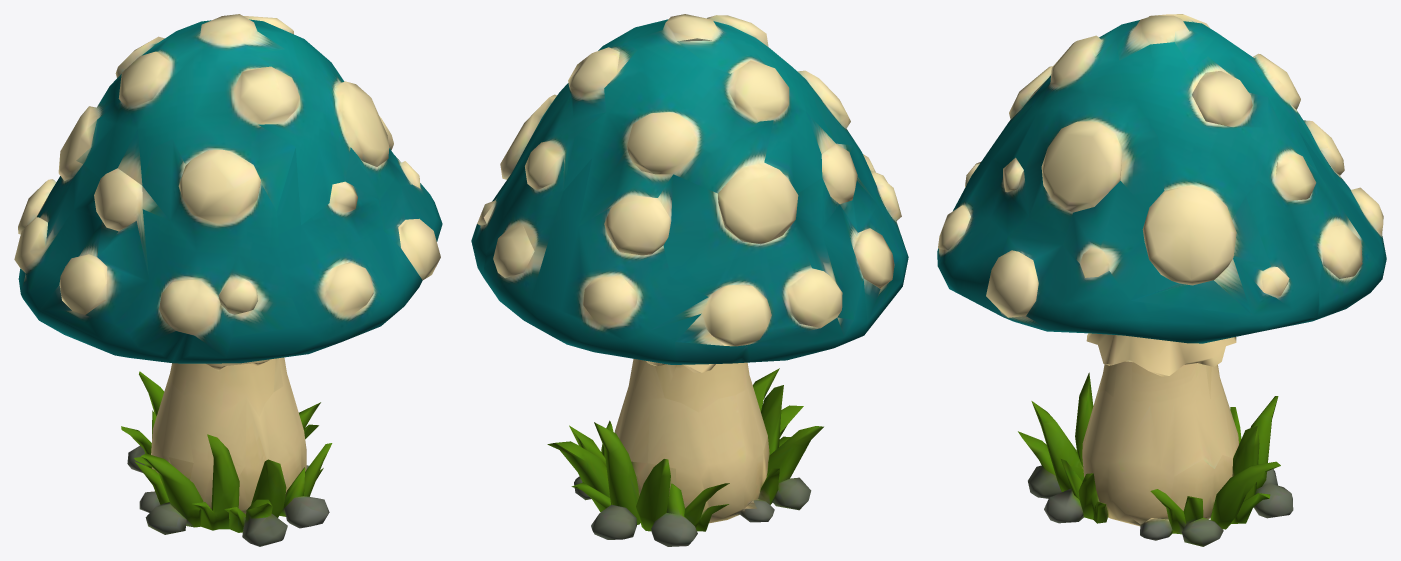
Rendered from shroom_teal.glb.
The picture shows the model from 3 angles, left to right: view 1: azimuth 30°, elevation 25°; view 2: azimuth 150°, elevation 25°; view 3: azimuth 270°, elevation 25°; orthographic projection.
Visible parts, largest first — view 1: tripo_node_09c8c3e2-41bb-40d8-acca-1e58ffd311c4; view 2: tripo_node_09c8c3e2-41bb-40d8-acca-1e58ffd311c4; view 3: tripo_node_09c8c3e2-41bb-40d8-acca-1e58ffd311c4.
Boxes of the visible parts, bbox=[...] form: tripo_node_09c8c3e2-41bb-40d8-acca-1e58ffd311c4: bbox=[14, 14, 442, 546]; tripo_node_09c8c3e2-41bb-40d8-acca-1e58ffd311c4: bbox=[471, 14, 908, 546]; tripo_node_09c8c3e2-41bb-40d8-acca-1e58ffd311c4: bbox=[937, 14, 1386, 546].
Bounding box in the file's own units: 1.29 × 1.6 × 1.36.
1 material, 1 textured.
